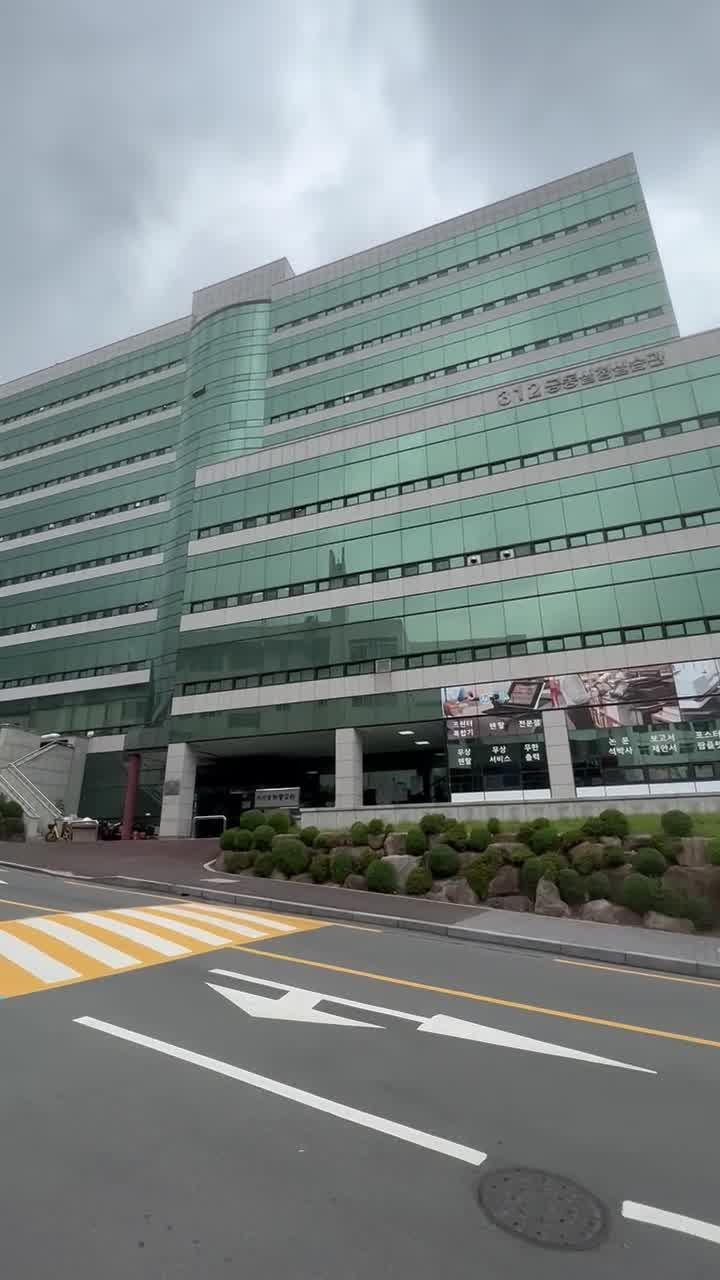building: (56, 202, 720, 676)
